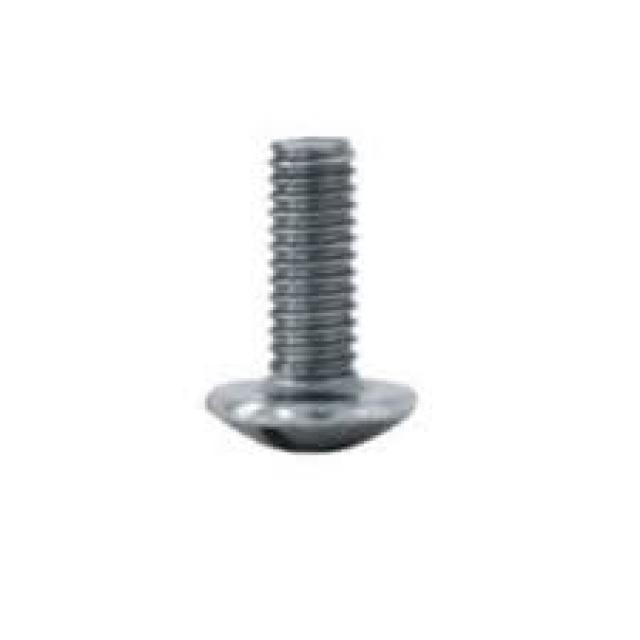Screw: (205, 137, 415, 455)
